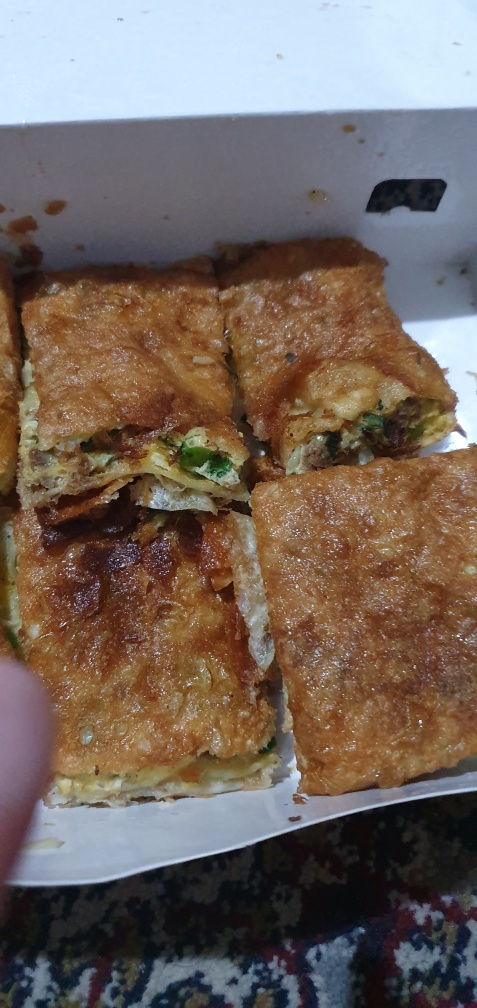martabak telor: (238, 452, 477, 795), (10, 492, 281, 794), (13, 257, 250, 502), (218, 226, 460, 452)
